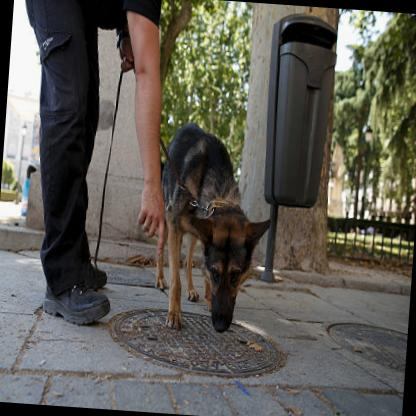manholes: (96, 272, 306, 410), (320, 298, 410, 394)
